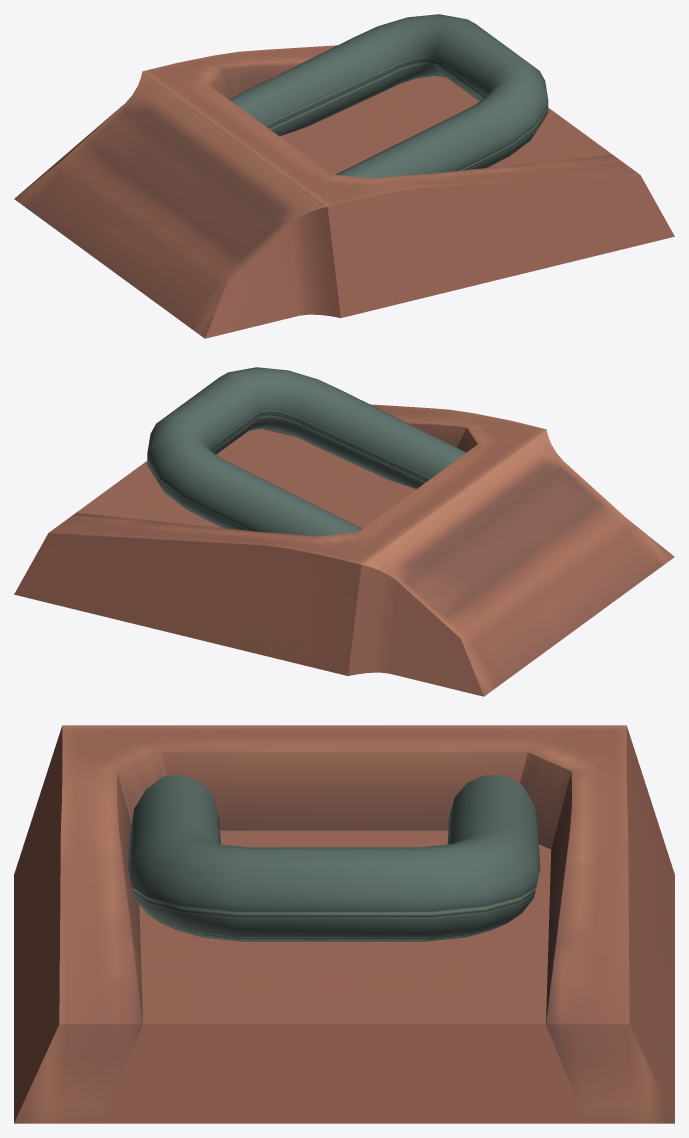
File: Vice.gltf
3 renders of one model, top to bottom at view 1: azimuth 30°, elevation 25°; view 2: azimuth 150°, elevation 25°; view 3: azimuth 270°, elevation 25°, orthographic. The views are drawn at different scales.
Visible parts, largest first — view 1: Prop_Clamp; view 2: Prop_Clamp; view 3: Prop_Clamp.
Part boxes in pixels (left/top/right/bottom): Prop_Clamp: left=14, top=14, right=674, bottom=338; Prop_Clamp: left=14, top=367, right=674, bottom=696; Prop_Clamp: left=14, top=725, right=674, bottom=1123.
Bounding box in the file's own units: 0.5605 × 0.1617 × 0.4602.
2 materials, 2 textured.
